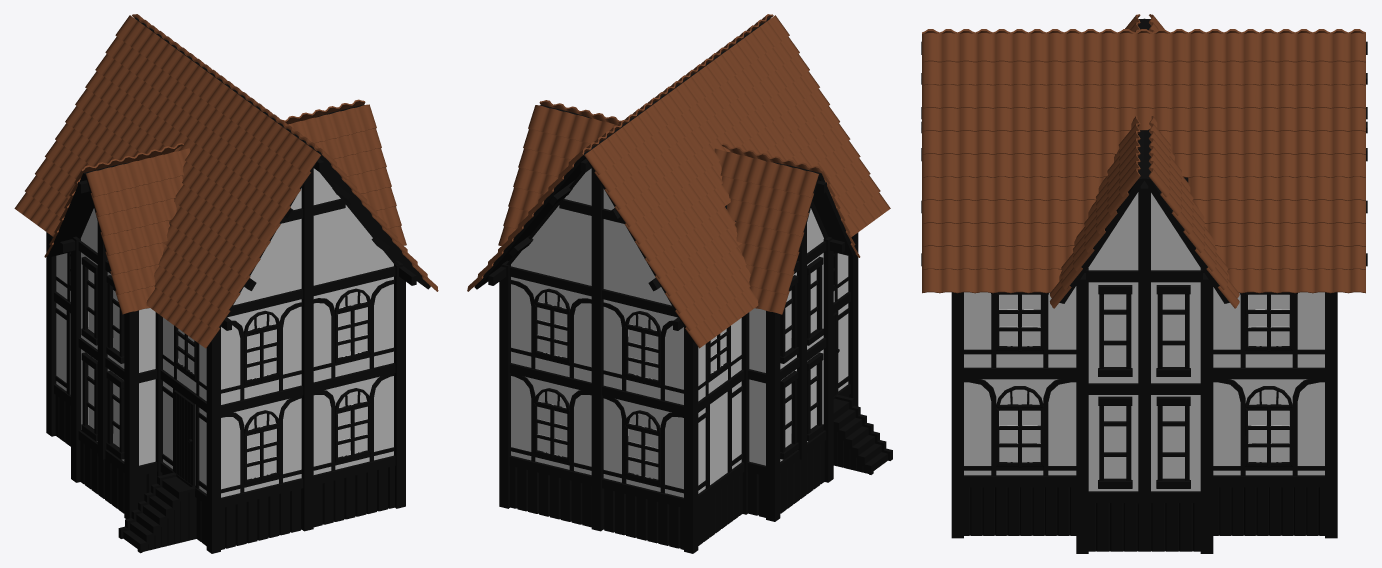
The model's file is House.obj.
3 views of the same model, side by side, from view 1: azimuth 30°, elevation 25°; view 2: azimuth 150°, elevation 25°; view 3: azimuth 270°, elevation 25° (orthographic). The views are drawn at different scales.
Parts seen in each view (by area): view 1: RoofTiles_Plane.009, Walls_Cube, WoodenCarcas_Cube.015, Windows_Plane.007, Stairs_Cube.003, Roof_Cube.016, Door_Cube.004; view 2: RoofTiles_Plane.009, Walls_Cube, WoodenCarcas_Cube.015, Windows_Plane.007, Roof_Cube.016, Stairs_Cube.003; view 3: RoofTiles_Plane.009, Walls_Cube, Windows_Plane.007, WoodenCarcas_Cube.015, Roof_Cube.016.
Boxes of the visible parts, box(x1,y1,x2,y2) form: RoofTiles_Plane.009: box(14, 14, 438, 348); Walls_Cube: box(55, 168, 394, 549); WoodenCarcas_Cube.015: box(46, 158, 416, 553); Windows_Plane.007: box(55, 252, 394, 493); Stairs_Cube.003: box(118, 472, 196, 553); Roof_Cube.016: box(49, 17, 430, 342); Door_Cube.004: box(173, 390, 194, 485); RoofTiles_Plane.009: box(467, 14, 890, 348); Walls_Cube: box(510, 168, 849, 549); WoodenCarcas_Cube.015: box(488, 159, 858, 553); Windows_Plane.007: box(510, 252, 849, 493); Roof_Cube.016: box(474, 17, 855, 342); Stairs_Cube.003: box(833, 394, 892, 474); RoofTiles_Plane.009: box(922, 14, 1365, 308); Walls_Cube: box(964, 192, 1324, 551); Windows_Plane.007: box(964, 285, 1324, 488); WoodenCarcas_Cube.015: box(921, 41, 1367, 553); Roof_Cube.016: box(1059, 18, 1229, 303).
Size of the model in its own units: 3.17 by 4.01 by 3.58.
